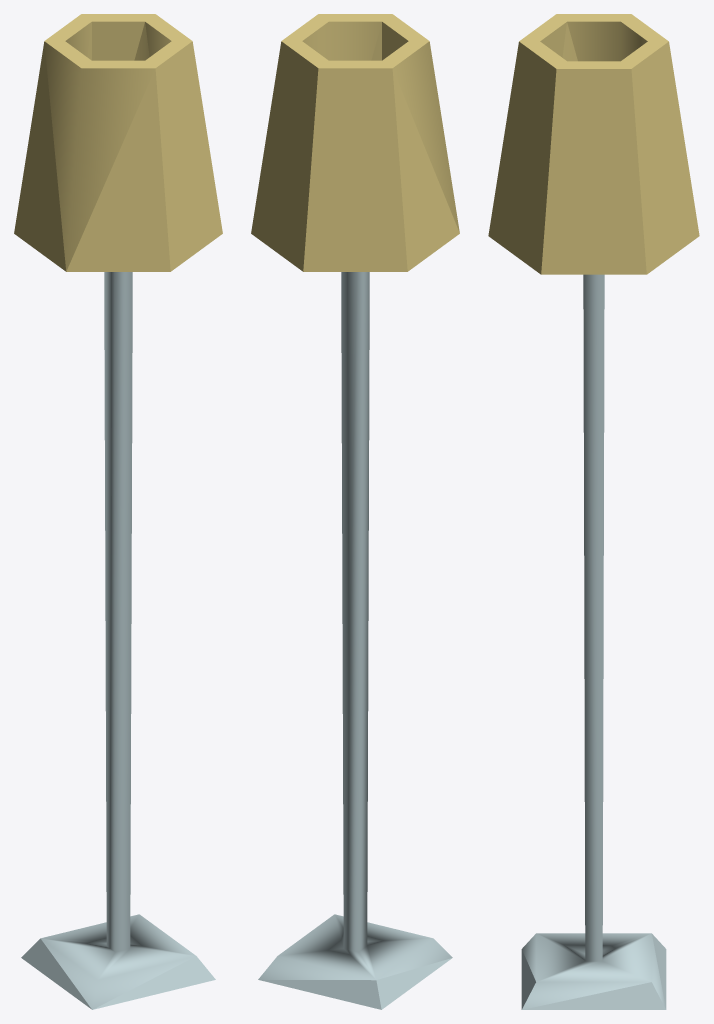
Rendered from lamp-round-floor.glb.
The picture shows the model from 3 angles, left to right: view 1: azimuth 30°, elevation 25°; view 2: azimuth 150°, elevation 25°; view 3: azimuth 270°, elevation 25°; orthographic projection.
Visible parts, largest first — view 1: lamp-round-floor; view 2: lamp-round-floor; view 3: lamp-round-floor.
Part boxes in pixels (left/top/right/bottom): lamp-round-floor: left=14, top=14, right=222, bottom=1009; lamp-round-floor: left=251, top=14, right=459, bottom=1009; lamp-round-floor: left=488, top=14, right=699, bottom=1009.
Bounding box in the file's own units: 0.2652 × 1.5 × 0.3062.
